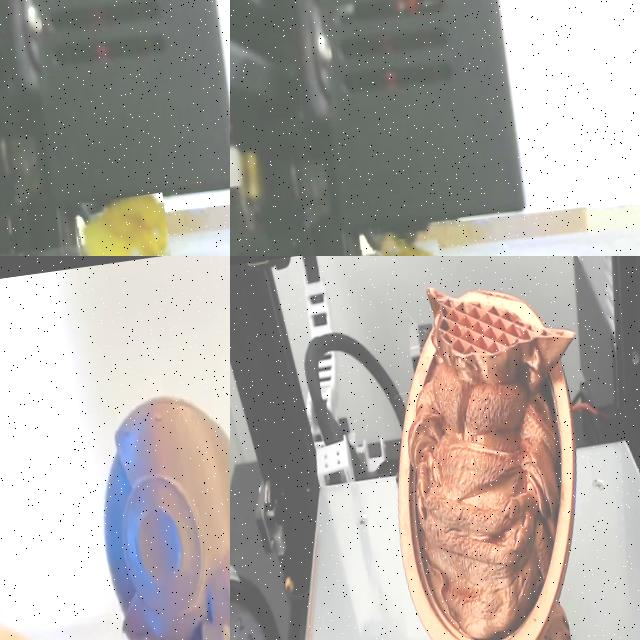spaghetti: (69, 192, 174, 256), (358, 234, 445, 256)
